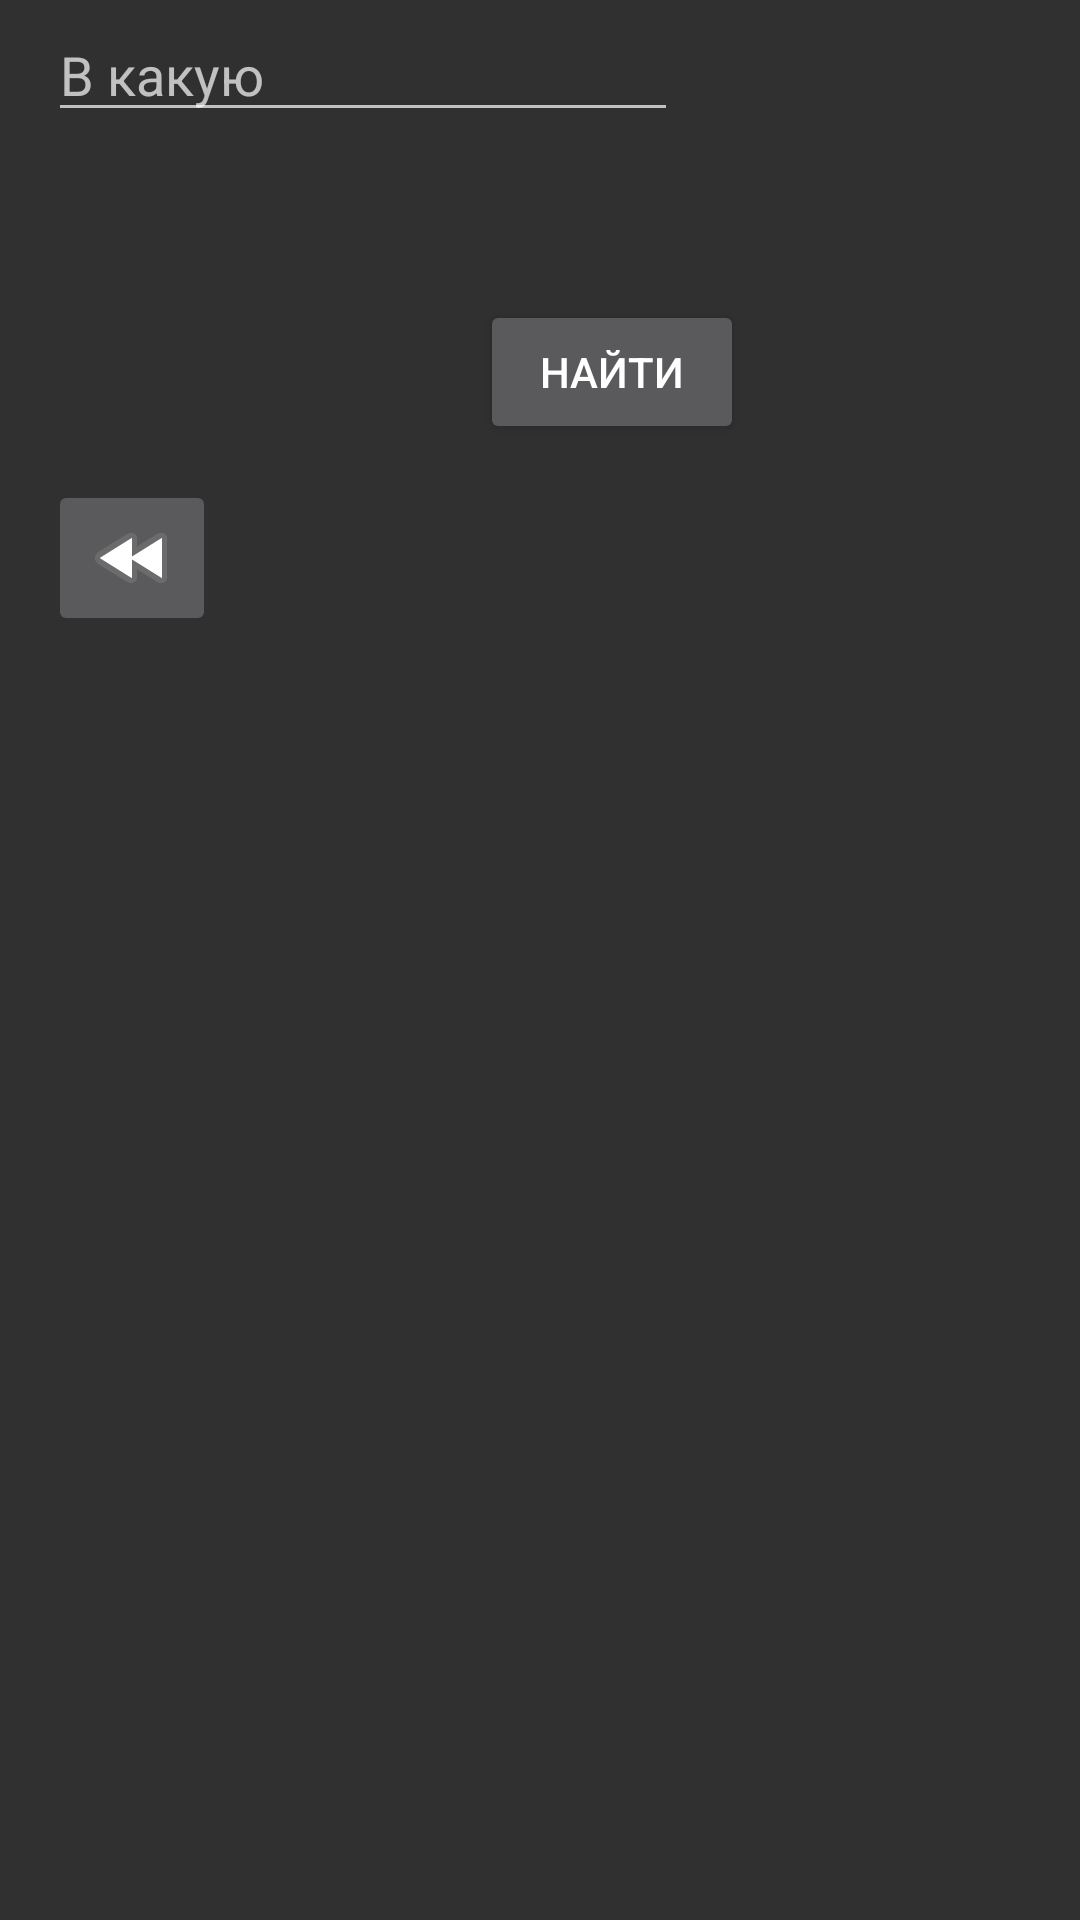

Named icons in this screenshot (1080*1920) and their bounding boxes, (x1, y1, x2, y2):
rew: (60, 498, 204, 618)
